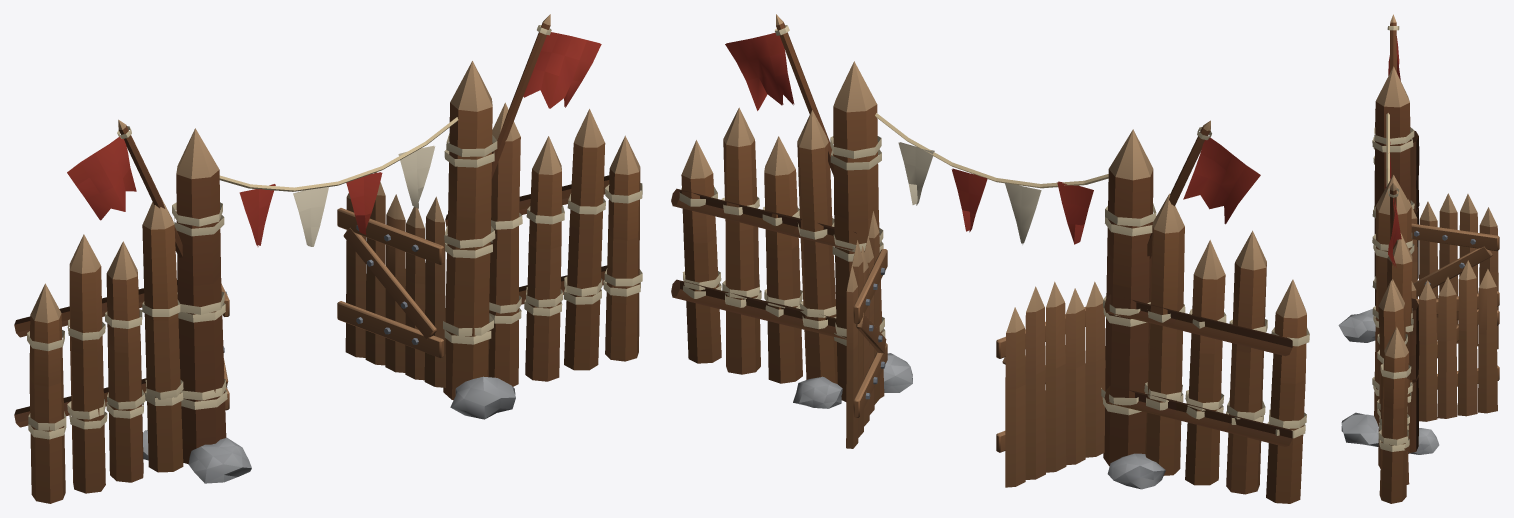
File: muster_gate.glb
The picture shows the model from 3 angles, left to right: view 1: azimuth 30°, elevation 25°; view 2: azimuth 150°, elevation 25°; view 3: azimuth 270°, elevation 25°; orthographic projection. The views are drawn at different scales.
Visible parts, largest first — view 1: MusterGateBody; view 2: MusterGateBody; view 3: MusterGateBody.
Boxes of the visible parts, x1,y1,x2,y2 form: MusterGateBody: [14, 14, 642, 503]; MusterGateBody: [671, 14, 1309, 503]; MusterGateBody: [1338, 14, 1499, 503].
Bounding box in the file's own units: 10.74 × 5.97 × 3.03.
